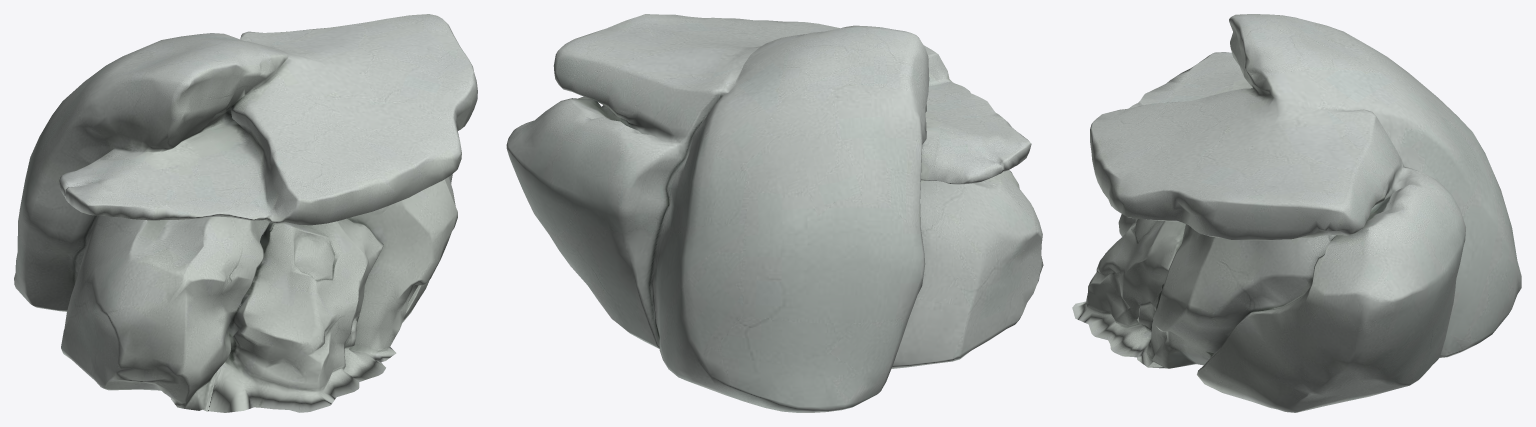
The model's file is reef-ledge.glb.
The picture shows the model from 3 angles, left to right: view 1: azimuth 30°, elevation 25°; view 2: azimuth 150°, elevation 25°; view 3: azimuth 270°, elevation 25°; orthographic projection. The views are drawn at different scales.
Size of the model in its own units: 0.9565 by 0.584 by 0.8564.
Materials: 1 (1 with a texture image).
